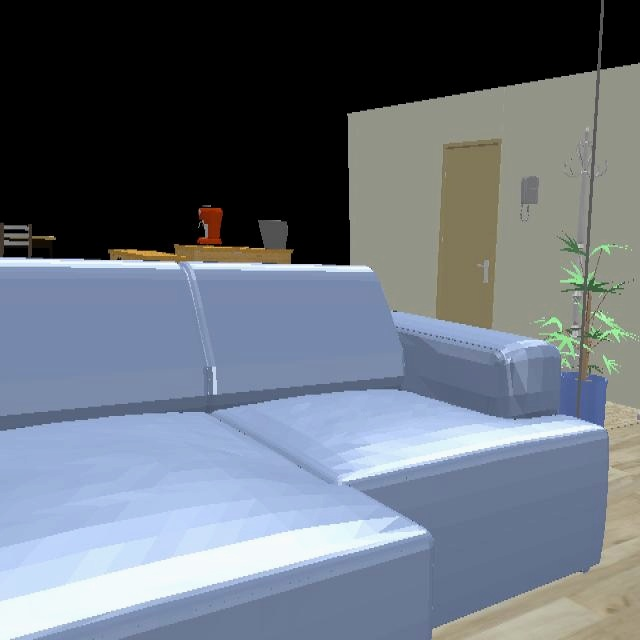countertop: (108, 244, 294, 265)
sofa: (0, 255, 611, 640)
